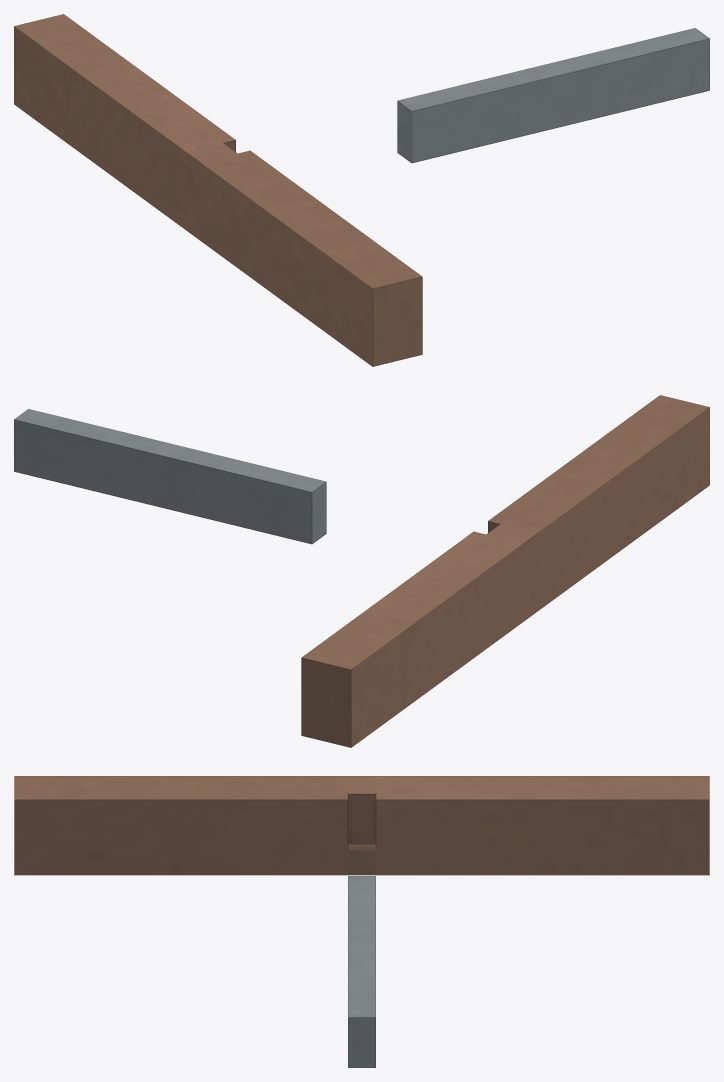
Rendered from upper-joist-into-girder.glb.
The picture shows the model from 3 angles, top to bottom: view 1: azimuth 30°, elevation 25°; view 2: azimuth 150°, elevation 25°; view 3: azimuth 270°, elevation 25°; orthographic projection. The views are drawn at different scales.
Parts seen in each view (by area): view 1: part-a, part-b; view 2: part-a, part-b; view 3: part-a, part-b.
Boxes of the visible parts, x1,y1,x2,y2 form: part-a: (14, 14, 422, 366); part-b: (397, 28, 709, 163); part-a: (301, 395, 709, 747); part-b: (14, 409, 326, 544); part-a: (14, 776, 709, 875); part-b: (348, 876, 375, 1067).
Bounding box in the file's own units: 1.23 × 0.1808 × 1.5.
